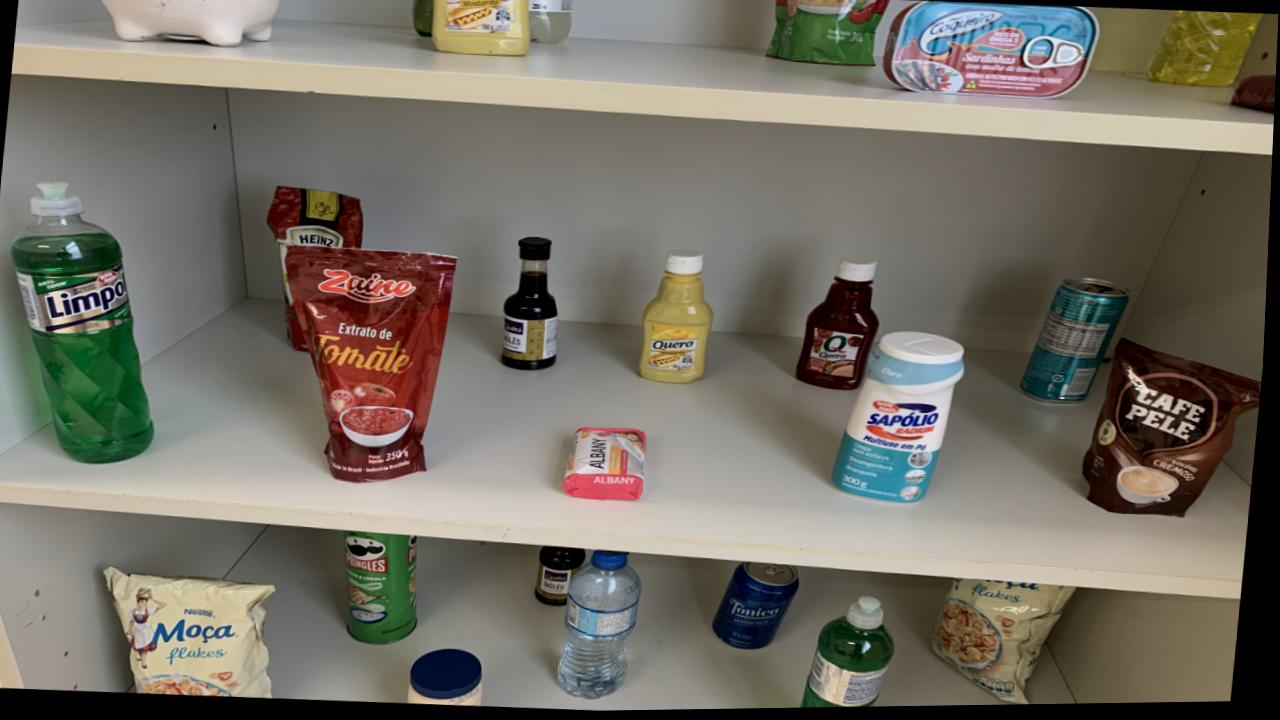Cleaner-Cleanup_Items: (836, 335, 966, 507)
Coffee-Pantry_Items: (1087, 343, 1265, 520)
Detergent-Cleanup_Items: (13, 182, 158, 463), (806, 599, 900, 710), (1146, 14, 1262, 91)
English_Sauce-Pantry_Items: (504, 238, 561, 372), (539, 547, 590, 608)
Flakes-Snacks: (110, 567, 279, 699), (937, 582, 1082, 708)
Guava-Snacks: (1232, 79, 1277, 116)
Ketchup-Pantry_Items: (800, 258, 882, 392)
Mayonnaise-Pantry_Items: (414, 650, 488, 708)
Mustard-Pantry_Items: (643, 251, 716, 385), (430, 0, 530, 57)
Pig_Safe-Miscellaneous: (101, 0, 281, 47)
Pringles-Snacks: (348, 533, 423, 646)
Soap-Cleanup_Items: (568, 430, 650, 502)
Soda-Drinks: (528, 0, 573, 45)
Tea-Drinks: (1024, 281, 1132, 407)
Tomato_Sauce-Pantry_Items: (287, 247, 458, 483), (766, 0, 888, 69), (269, 188, 365, 267), (284, 267, 310, 351)
Tonic-Drinks: (718, 564, 805, 651)
Tuna_Can-Pantry_Items: (882, 4, 1098, 101)
Water_Bottle-Drinks: (564, 553, 647, 701)
